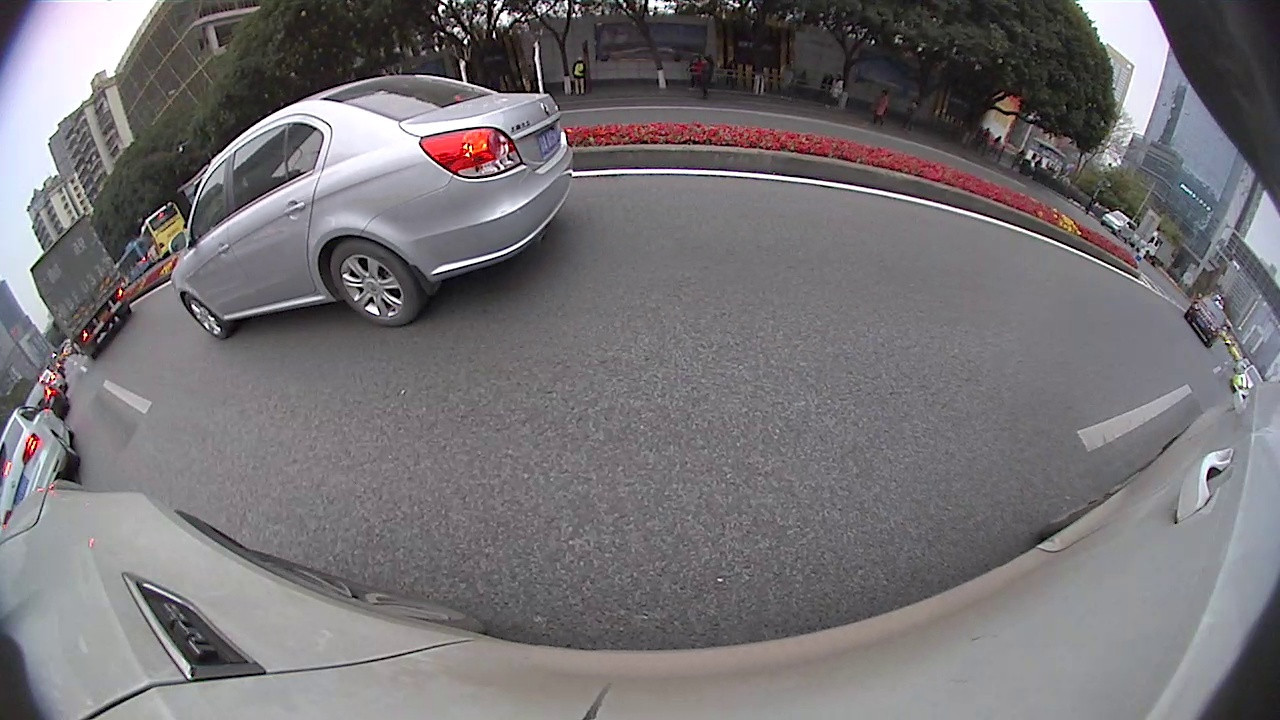bus: (138, 201, 191, 267)
car: (173, 74, 576, 342), (2, 410, 81, 528), (1186, 294, 1228, 351), (27, 381, 70, 424), (1231, 362, 1266, 397)
front: (183, 288, 231, 342)
rear: (327, 231, 424, 327), (54, 434, 78, 465)
truck: (27, 213, 132, 366)
